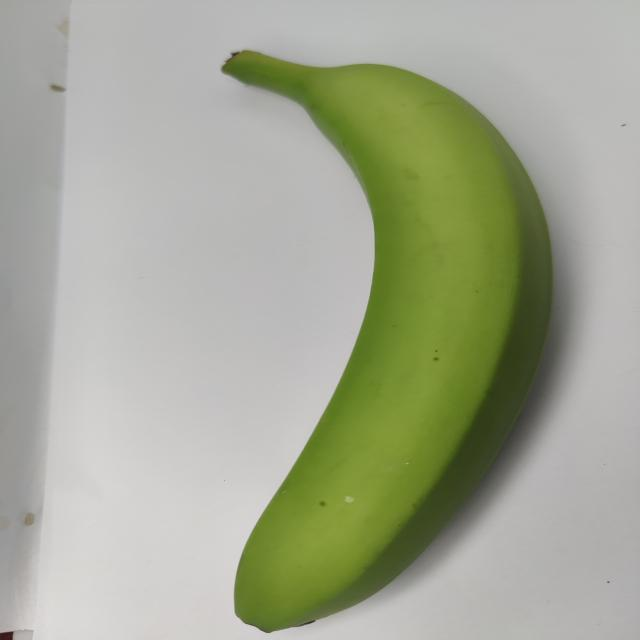raw: (150, 34, 571, 640)
